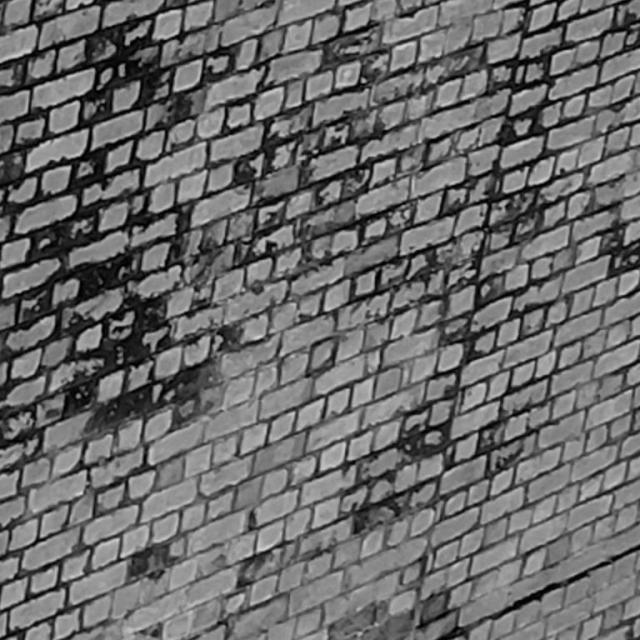crack: (435, 543, 638, 640)
